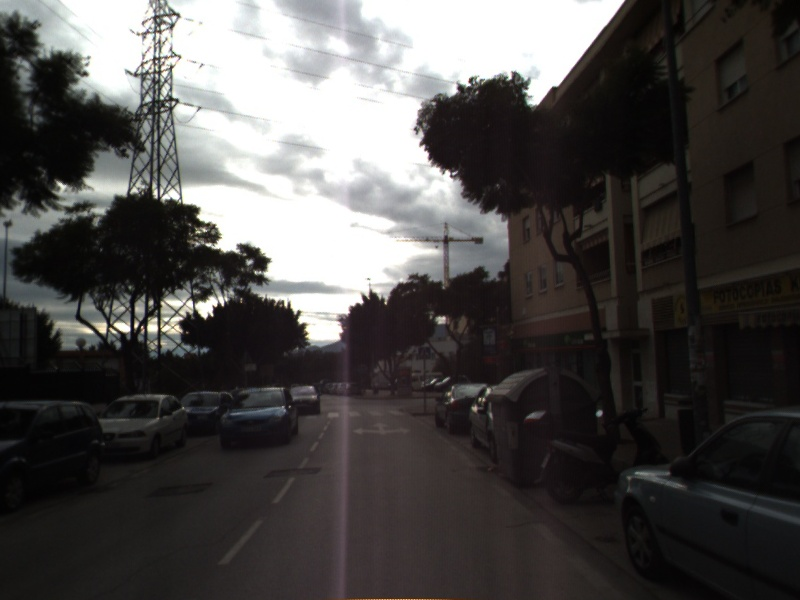STRAIGHT_LEFT_RIGHT: (350, 420, 413, 437)
